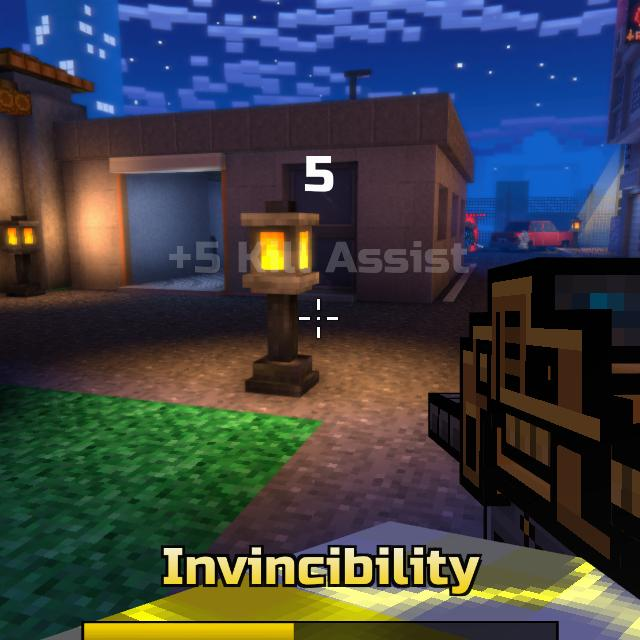Enemy: (464, 222, 476, 251)
